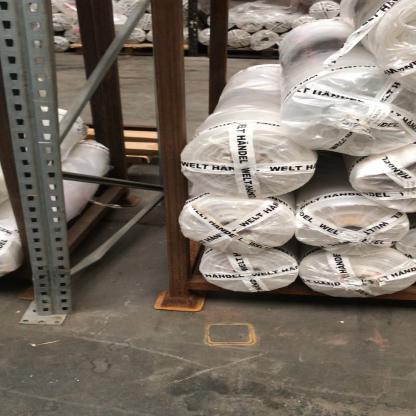vertical_damage: (19, 238, 86, 336)
